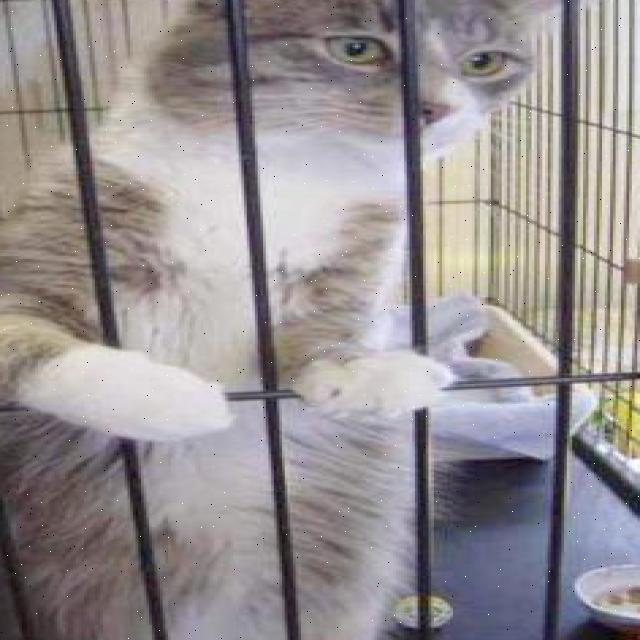Cat: (135, 0, 632, 157)
